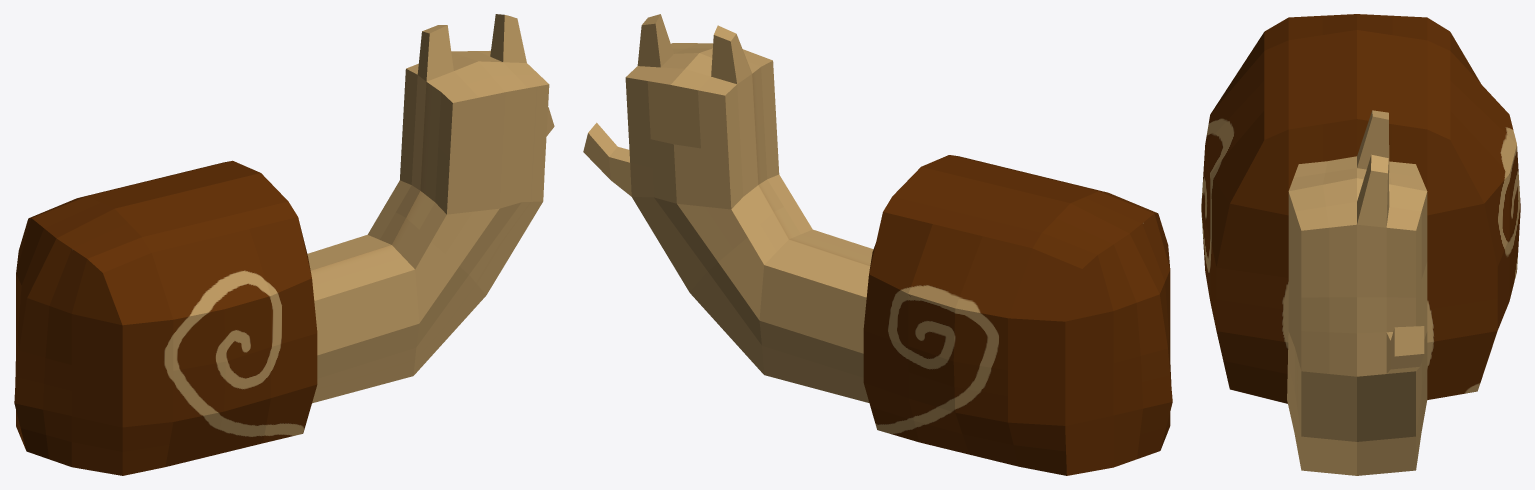
Rendered from caracol hora de aventura.fbx.
The picture shows the model from 3 angles, left to right: view 1: azimuth 30°, elevation 25°; view 2: azimuth 150°, elevation 25°; view 3: azimuth 270°, elevation 25°; orthographic projection. The views are drawn at different scales.
Visible parts, largest first — view 1: Cube; view 2: Cube; view 3: Cube.
Boxes of the visible parts, box(x1,y1,x2,y2) form: Cube: box(14, 14, 554, 475); Cube: box(583, 14, 1172, 475); Cube: box(1201, 14, 1520, 475).
Size of the model in its own units: 148 by 80.75 by 59.11.
Materials: 1 (1 with a texture image).
